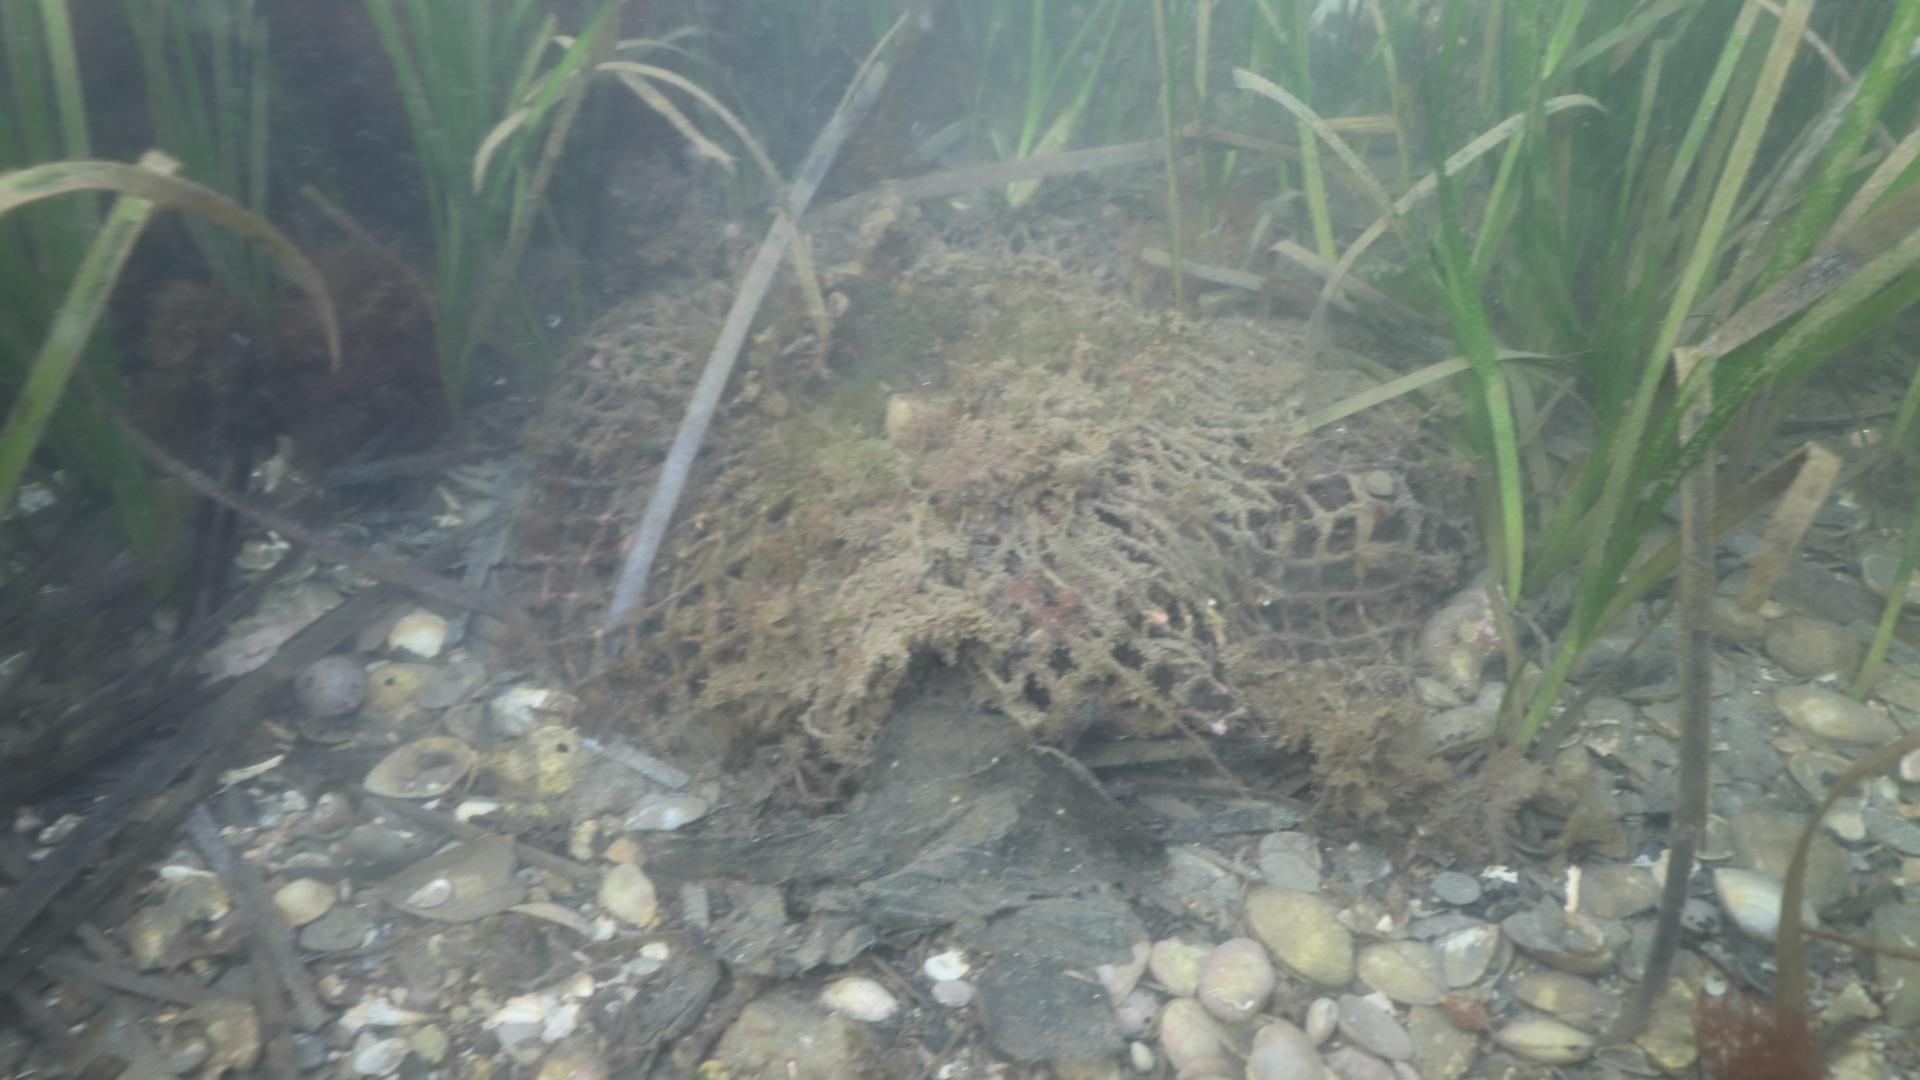fish net: (516, 215, 1474, 731)
